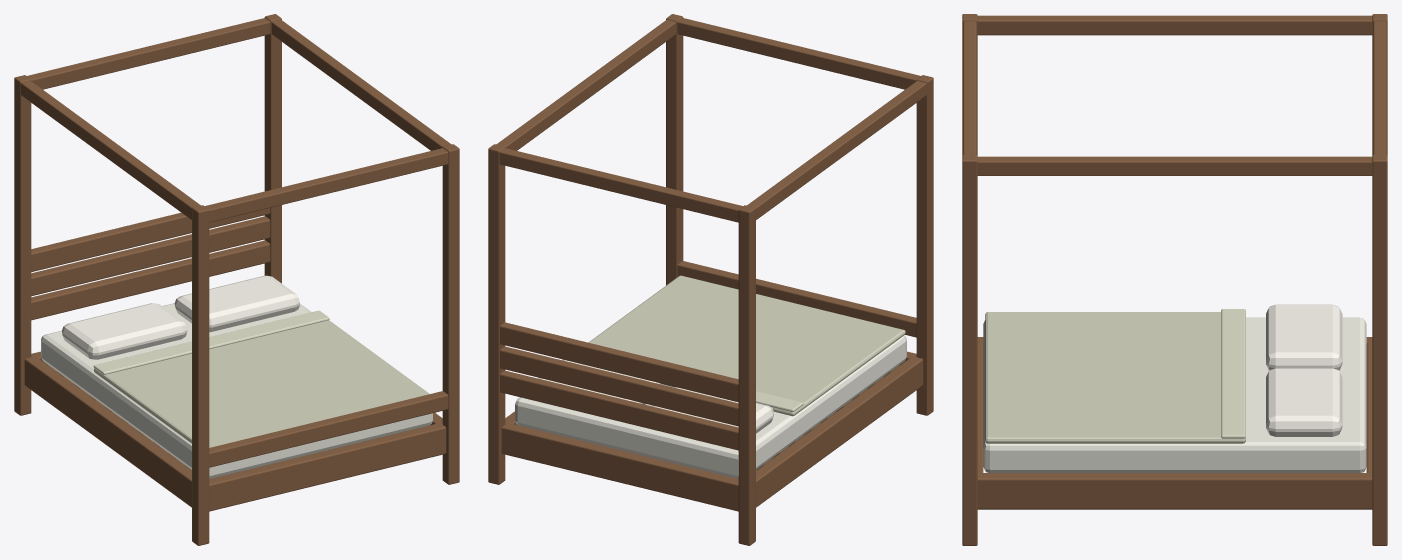
Rendered from bed_canopy.glb.
3 views of the same model, side by side, from view 1: azimuth 30°, elevation 25°; view 2: azimuth 150°, elevation 25°; view 3: azimuth 270°, elevation 25° (orthographic). The views are drawn at different scales.
Parts seen in each view (by area): view 1: Canopy double bed folded top blanket, Canopy double bed rounded mattress, Canopy bed end frame rail, Canopy bed side frame rail, Canopy bed full height post, Canopy bed full height post.002, Canopy bed full height post.001, Canopy bed horizontal headboard panel, Canopy bed horizontal headboard panel.001, Canopy bed footboard cross rail, Canopy double bed soft pillow 1, Canopy bed upper cross rail (+7 smaller); view 2: Canopy double bed folded top blanket, Canopy double bed rounded mattress, Canopy bed end frame rail.001, Canopy bed side frame rail, Canopy bed full height post.001, Canopy bed full height post, Canopy bed horizontal headboard panel.001, Canopy bed horizontal headboard panel, Canopy bed horizontal headboard panel.002, Canopy bed full height post.003, Canopy bed upper cross rail.001, Canopy bed upper cross rail (+6 smaller); view 3: Canopy double bed folded top blanket, Canopy double bed rounded mattress, Canopy bed side frame rail.001, Canopy bed upper long rail, Canopy bed upper long rail.001, Canopy bed full height post.002, Canopy bed full height post.003, Canopy double bed soft pillow 2, Canopy double bed soft pillow 1, Canopy double bed blanket turned edge, Canopy bed upper cross rail, Canopy bed upper cross rail.001 (+4 smaller).
Boxes of the visible parts, x1,y1,x2,y2 form: Canopy double bed folded top blanket: (94,320,429,447); Canopy double bed rounded mattress: (41,303,432,478); Canopy bed end frame rail: (209,422,446,511); Canopy bed side frame rail: (25,355,191,507); Canopy bed full height post: (192,205,209,545); Canopy bed full height post.002: (442,144,459,484); Canopy bed full height post.001: (14,75,31,415); Canopy bed horizontal headboard panel: (31,240,270,320); Canopy bed horizontal headboard panel.001: (31,216,270,296); Canopy bed footboard cross rail: (209,391,448,467); Canopy double bed soft pillow 1: (62,303,187,359); Canopy bed upper cross rail: (205,148,448,222); Canopy double bed folded top blanket: (588,275,905,416); Canopy double bed rounded mattress: (515,335,906,478); Canopy bed end frame rail.001: (501,422,738,511); Canopy bed side frame rail: (756,354,923,507); Canopy bed full height post.001: (738,205,755,545); Canopy bed full height post: (916,75,933,415); Canopy bed horizontal headboard panel.001: (500,346,738,426); Canopy bed horizontal headboard panel: (500,370,738,450); Canopy bed horizontal headboard panel.002: (500,322,738,402); Canopy bed full height post.003: (488,144,505,484); Canopy bed upper cross rail.001: (499,148,742,222); Canopy bed upper cross rail: (677,18,920,89); Canopy double bed folded top blanket: (985,312,1245,443); Canopy double bed rounded mattress: (983,317,1366,472); Canopy bed side frame rail.001: (977,473,1372,509); Canopy bed upper long rail: (977,15,1372,35); Canopy bed upper long rail.001: (977,156,1372,175); Canopy bed full height post.002: (962,155,977,545); Canopy bed full height post.003: (1372,155,1387,545); Canopy double bed soft pillow 2: (1266,368,1342,436); Canopy double bed soft pillow 1: (1266,304,1342,370); Canopy double bed blanket turned edge: (1221,309,1245,438); Canopy bed upper cross rail: (963,21,976,154); Canopy bed upper cross rail.001: (1373,21,1386,154).
Size of the model in its own units: 1.82 by 2.22 by 2.22.
